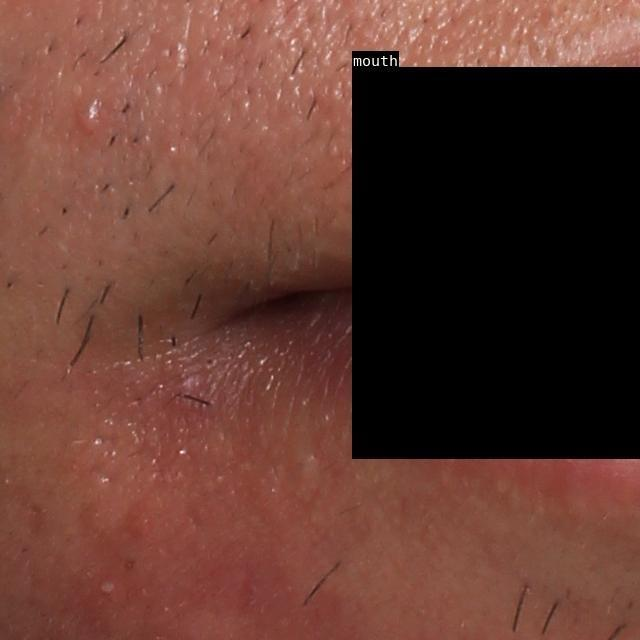pustule: (90, 569, 125, 604)
